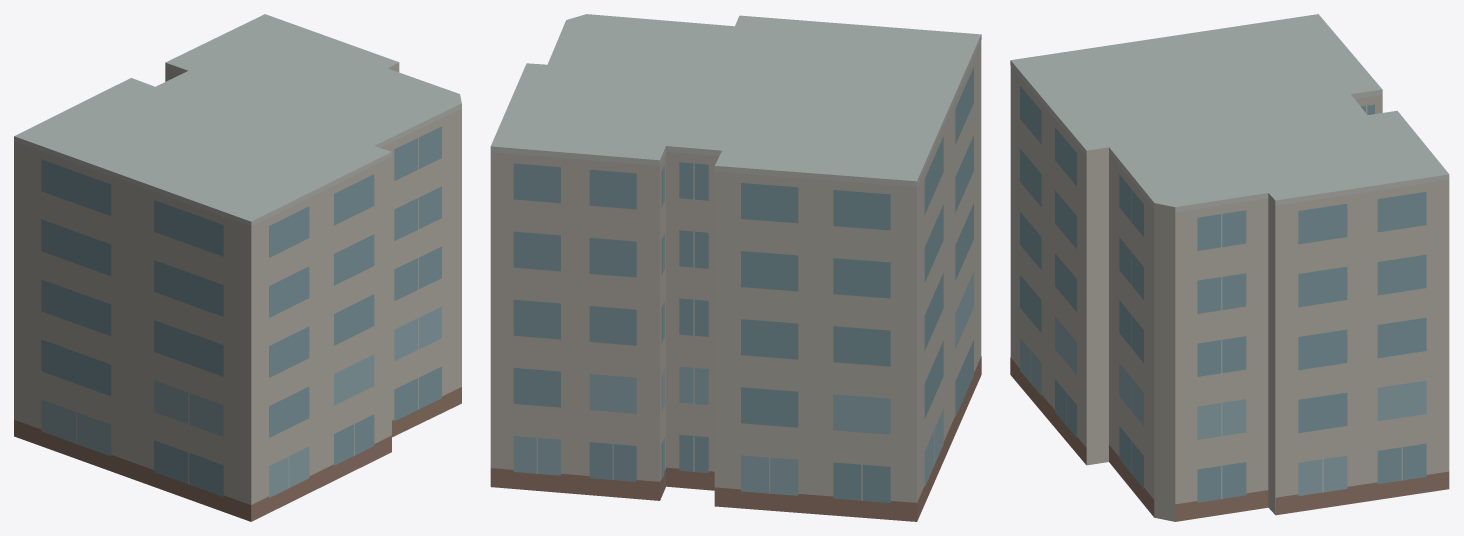
File: survey-upis-32740934.glb
3 renders of one model, left to right at view 1: azimuth 30°, elevation 25°; view 2: azimuth 150°, elevation 25°; view 3: azimuth 270°, elevation 25°, orthographic. The views are drawn at different scales.
Parts seen in each view (by area): view 1: survey-upis-32740934.tmp; view 2: survey-upis-32740934.tmp; view 3: survey-upis-32740934.tmp.
Part boxes in pixels (<box>): survey-upis-32740934.tmp: <box>14,14,461,521</box>; survey-upis-32740934.tmp: <box>490,14,981,521</box>; survey-upis-32740934.tmp: <box>1010,14,1449,521</box>.
Size of the model in its own units: 19.29 by 14.65 by 18.53.
